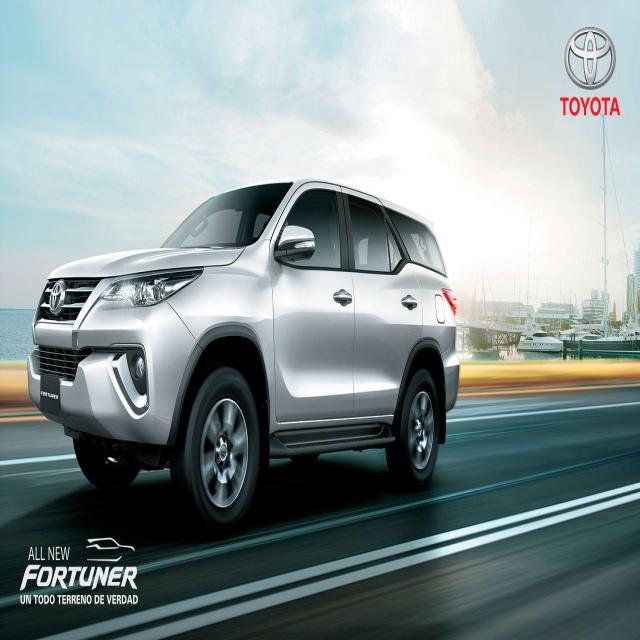light_vehicle: (27, 180, 460, 532)
